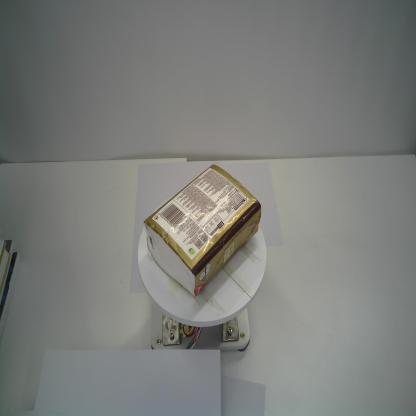Tissue: (143, 163, 262, 300)
